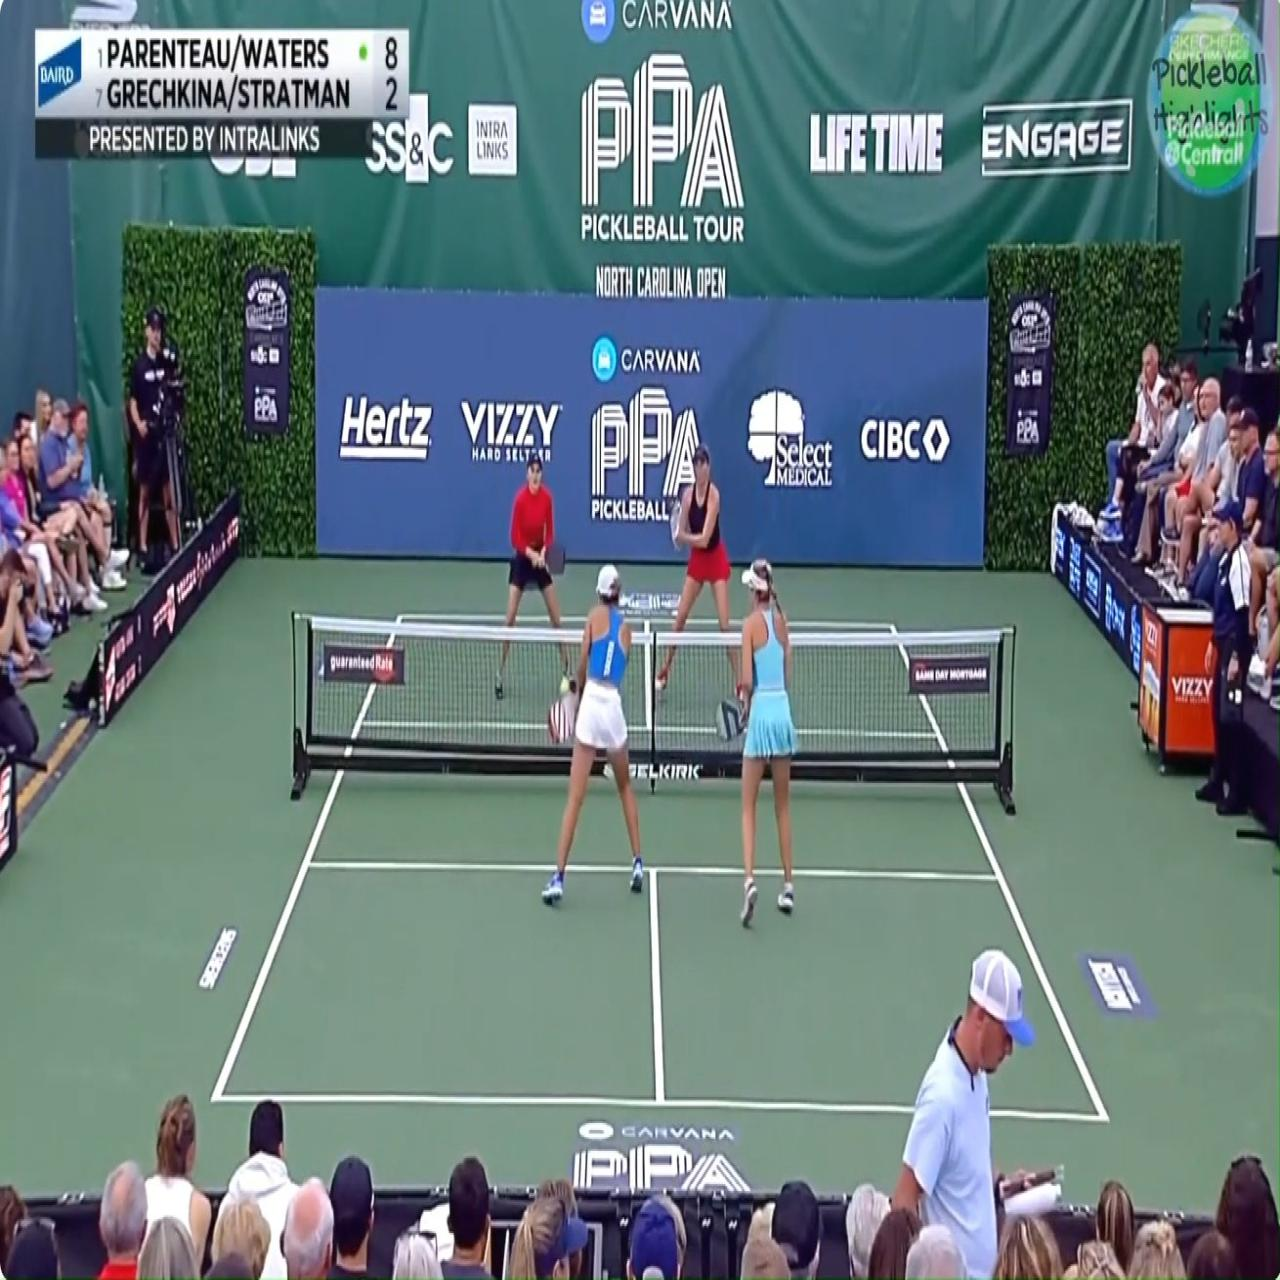pickleball: (560, 676, 570, 694)
